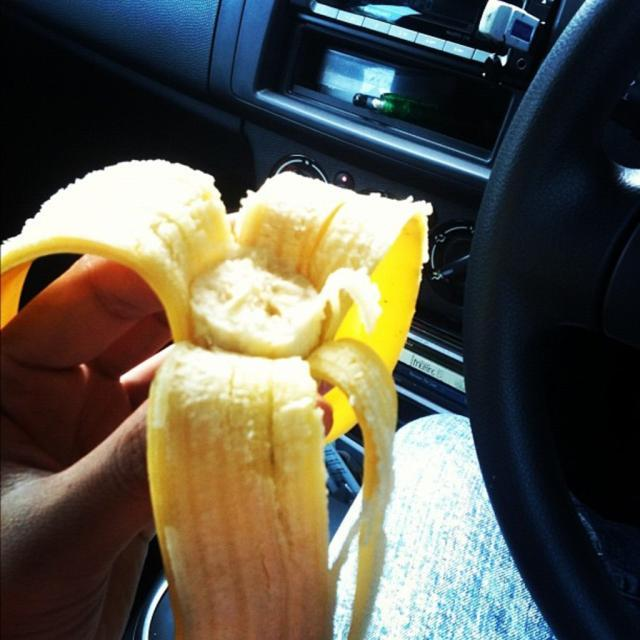banana: (36, 135, 423, 553)
